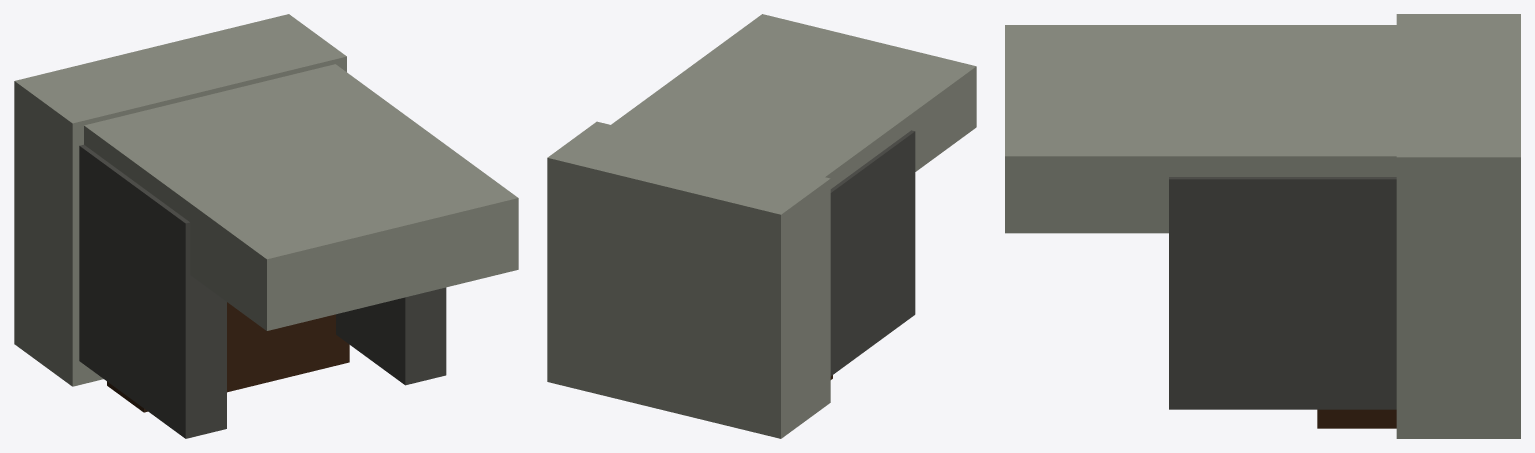
File: SM_RivCouncilSeat.obj
3 views of the same model, side by side, from view 1: azimuth 30°, elevation 25°; view 2: azimuth 150°, elevation 25°; view 3: azimuth 270°, elevation 25° (orthographic). The views are drawn at different scales.
Parts seen in each view (by area): view 1: SM_RivCouncilSeat; view 2: SM_RivCouncilSeat; view 3: SM_RivCouncilSeat.
Boxes of the visible parts, x1=… form: SM_RivCouncilSeat: x1=14, y1=14, x2=518, y2=438; SM_RivCouncilSeat: x1=547, y1=14, x2=976, y2=438; SM_RivCouncilSeat: x1=1005, y1=14, x2=1520, y2=438.
Size of the model in its own units: 120 by 113 by 182.
